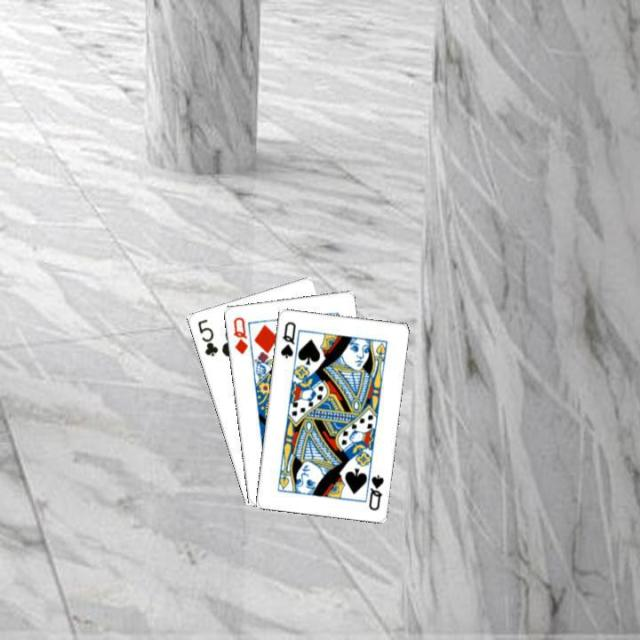5C: (193, 316, 219, 358)
QD: (228, 313, 250, 355)
QS: (364, 470, 386, 512), (276, 317, 297, 360)
